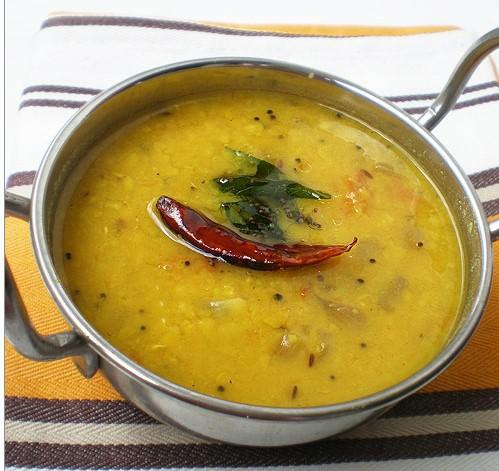Dal: (60, 93, 463, 406)
